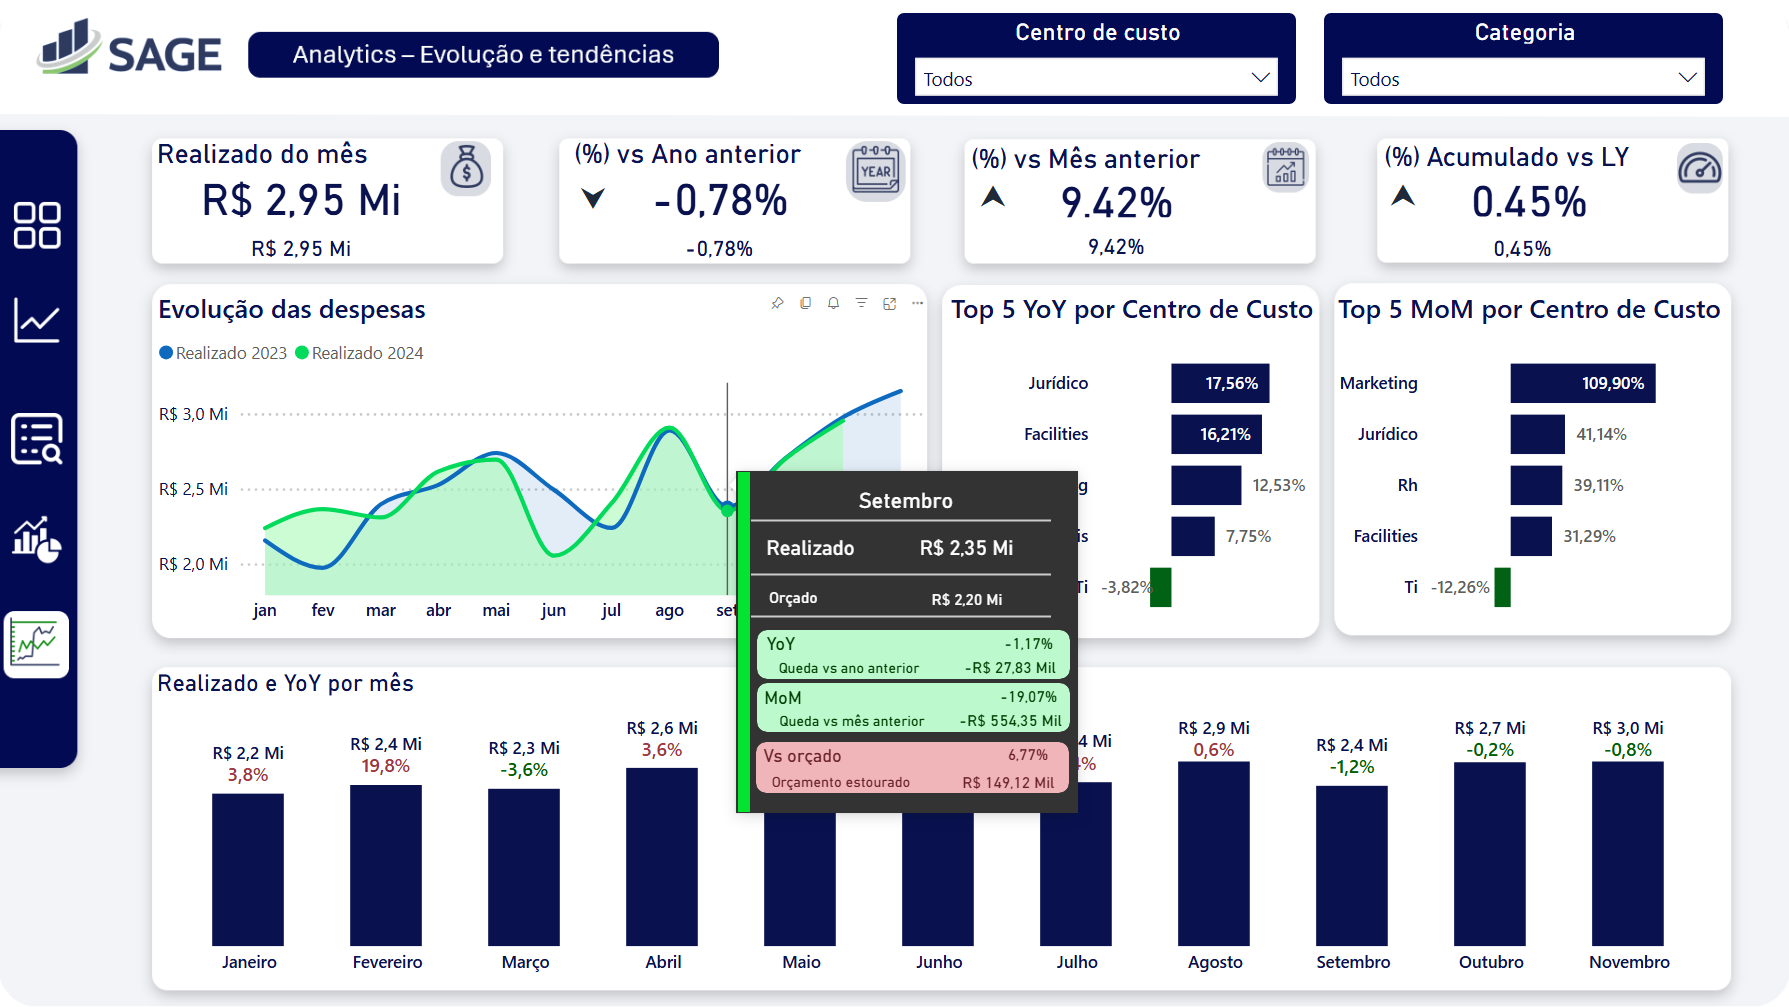

This screenshot's page, from the dashboard's own definition file:
{"tool":"powerbi","page":{"name":"Analytics - Evolução","canvas":[1280,720],"ordinal":5},"visuals":[{"type":"card","title":"Realizado do mês","fields":{"Values":["Medidas.Real total Mês Atual"]},"box":[108.7,98.4,216.2,61.8],"z":0},{"type":"card","title":"(%) vs Ano anterior","fields":{"Values":["Medidas.YOY %"]},"box":[407.2,98.4,216.2,61.8],"z":1000},{"type":"card","title":"(%) vs Mês anterior","fields":{"Values":["Medidas.MOM %"]},"box":[690.9,101.8,216.2,58.3],"z":2000},{"type":"card","title":" (%) Acumulado vs LY","fields":{"Values":["Medidas.YTD VS LY"]},"box":[986,100.7,216.2,59.5],"z":3000},{"type":"card","fields":{"Values":["Medidas.YOY %"]},"box":[441.2,161.1,147.2,32.9],"z":4000},{"type":"card","fields":{"Values":["Medidas.MOM %"]},"box":[724.9,160.2,147.2,33.9],"z":5000},{"type":"card","fields":{"Values":["Medidas.YTD VS LY"]},"box":[1015.8,161.3,146.4,33.2],"z":6000},{"type":"lineChart","title":"Evolução das despesas","fields":{"Category":["dim_mes.nome_mes_abrev"],"Y":["Medidas.Real LY","Medidas.Realizado Ano Atual"]},"box":[109.4,207,557,247.1],"z":7000},{"type":"slicer","title":"Centro de custo","fields":{"Values":["dim_centro_de_custo.nome_centro_de_custo"]},"box":[642.3,9.2,285.4,65.4],"z":8000},{"type":"slicer","title":"Categoria","fields":{"Values":["dim_categoria.nome_categoria"]},"box":[946.9,9.2,285.4,65.4],"z":9000},{"type":"barChart","title":"Top 5  YoY por Centro de Custo","fields":{"Y":["Medidas.YOY %"],"Category":["dim_centro_de_custo.nome_centro_de_custo"]},"box":[675.6,207,272.6,247.1],"z":10000},{"type":"card","fields":{"Values":["Medidas.icon YOY"]},"box":[407.2,123.5,35.5,35.5],"z":11000},{"type":"card","fields":{"Values":["Medidas.icon MOM"]},"box":[692,123.5,36.6,36.6],"z":12000},{"type":"card","fields":{"Values":["Medidas.icon YTD vs LY"]},"box":[986,123.5,35.5,35.5],"z":13000},{"type":"card","fields":{"Values":["Medidas.Real total Mês Atual"]},"box":[143,161.1,147.2,32.9],"z":14000},{"type":"barChart","title":"Top 5  MoM por Centro de Custo","fields":{"Y":["Medidas.MOM % Card"],"Category":["dim_centro_de_custo.nome_centro_de_custo"]},"box":[951.8,207,284.4,247.1],"z":15000},{"type":"actionButton","box":[5.9,292.2,44,39.8],"z":16000},{"type":"actionButton","box":[5.9,365.8,43.9,39.7],"z":17000},{"type":"actionButton","box":[5.9,208.4,44,39.8],"z":18000},{"type":"actionButton","box":[5,140.4,44.6,39.6],"z":19000},{"type":"clusteredColumnChart","title":"Realizado e YoY por mês","fields":{"Category":["dim_mes.nome_mes_format"],"Y":["Medidas.Realizado Ano Atual"]},"box":[108.5,477.7,1127.7,227.9],"z":20000}]}

Visuals, with their boxes on the page's 1280x720 design canvas (x1, y1, x2, y2). These are canvas units, not pixel positions in the 1789x1007 screenshot, which may show the page scaled, cropped or inside an application window:
"Realizado do mês" card: <bbox>109, 98, 325, 160</bbox>
"(%) vs Ano anterior" card: <bbox>407, 98, 623, 160</bbox>
"(%) vs Mês anterior" card: <bbox>691, 102, 907, 160</bbox>
" (%) Acumulado vs LY" card: <bbox>986, 101, 1202, 160</bbox>
card - Medidas.YOY %: <bbox>441, 161, 588, 194</bbox>
card - Medidas.MOM %: <bbox>725, 160, 872, 194</bbox>
card - Medidas.YTD VS LY: <bbox>1016, 161, 1162, 194</bbox>
"Evolução das despesas" lineChart: <bbox>109, 207, 666, 454</bbox>
"Centro de custo" slicer: <bbox>642, 9, 928, 75</bbox>
"Categoria" slicer: <bbox>947, 9, 1232, 75</bbox>
"Top 5  YoY por Centro de Custo" barChart: <bbox>676, 207, 948, 454</bbox>
card - Medidas.icon YOY: <bbox>407, 124, 443, 159</bbox>
card - Medidas.icon MOM: <bbox>692, 124, 729, 160</bbox>
card - Medidas.icon YTD vs LY: <bbox>986, 124, 1022, 159</bbox>
card - Medidas.Real total Mês Atual: <bbox>143, 161, 290, 194</bbox>
"Top 5  MoM por Centro de Custo" barChart: <bbox>952, 207, 1236, 454</bbox>
actionButton: <bbox>6, 292, 50, 332</bbox>
actionButton: <bbox>6, 366, 50, 406</bbox>
actionButton: <bbox>6, 208, 50, 248</bbox>
actionButton: <bbox>5, 140, 50, 180</bbox>
"Realizado e YoY por mês" clusteredColumnChart: <bbox>108, 478, 1236, 706</bbox>
